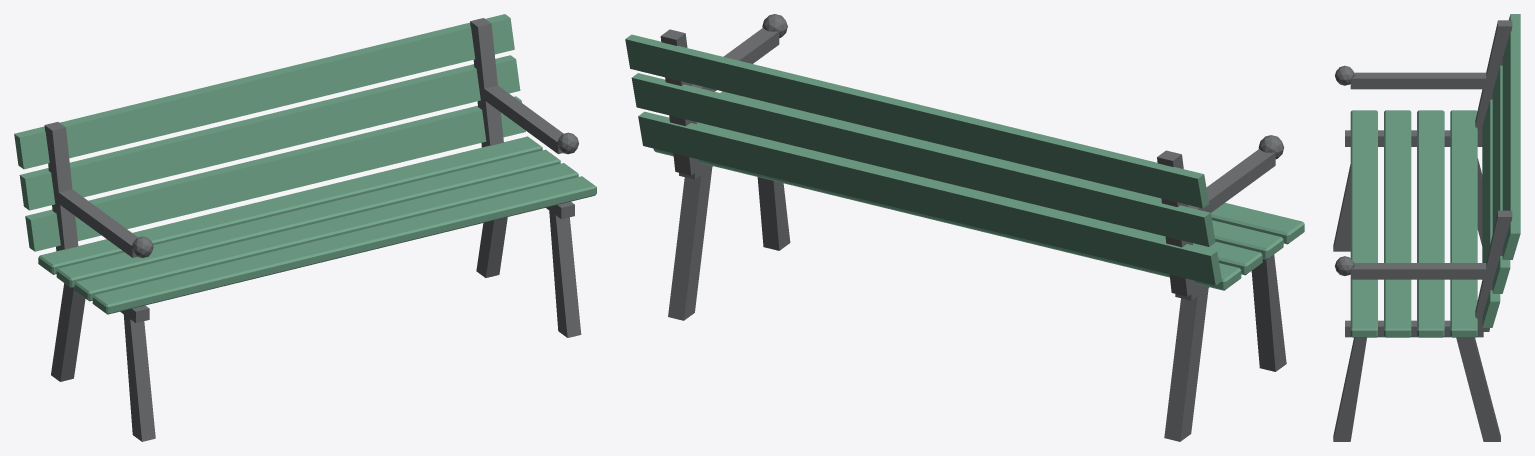
File: bench.glb
3 views of the same model, side by side, from view 1: azimuth 30°, elevation 25°; view 2: azimuth 150°, elevation 25°; view 3: azimuth 270°, elevation 25° (orthographic). The views are drawn at different scales.
Parts seen in each view (by area): view 1: bench_bench_g, bench_iron; view 2: bench_bench_g, bench_iron; view 3: bench_bench_g, bench_iron.
Part boxes in pixels (left/top/right/bottom): bench_bench_g: left=14, top=14, right=596, bottom=314; bench_iron: left=44, top=18, right=581, bottom=441; bench_bench_g: left=625, top=34, right=1304, bottom=290; bench_iron: left=660, top=14, right=1286, bottom=441; bench_bench_g: left=1350, top=14, right=1520, bottom=337; bench_iron: left=1333, top=20, right=1512, bottom=441.
Size of the model in its own units: 1.8 by 0.86 by 0.6484.
